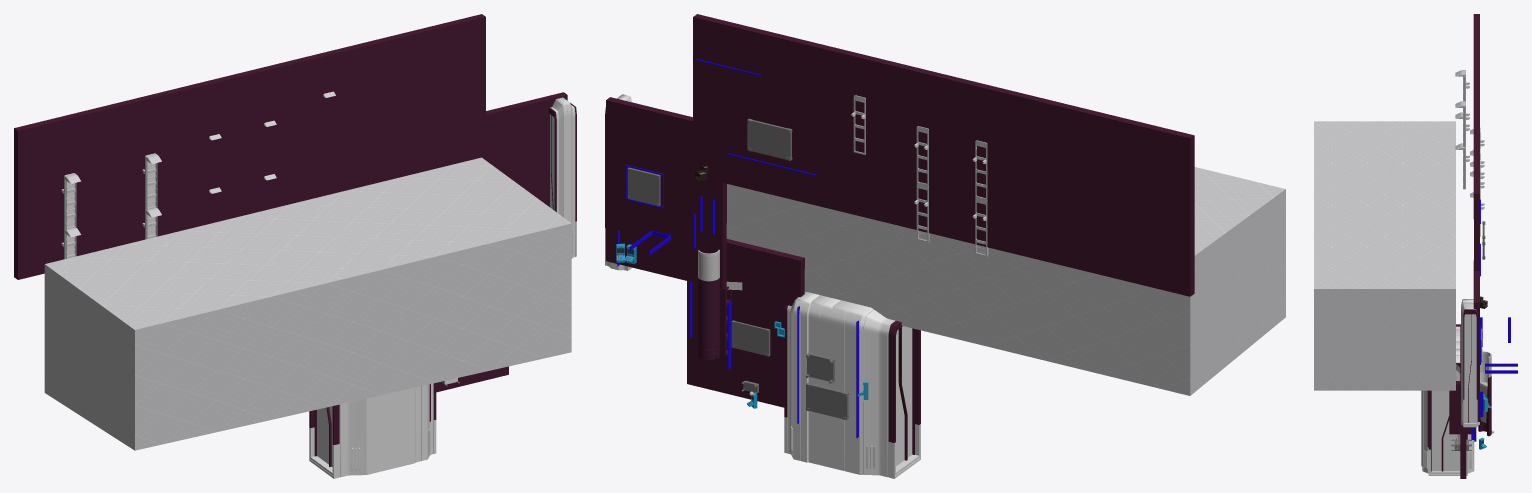
The model's file is lab Background.fbx.
3 renders of one model, left to right at view 1: azimuth 30°, elevation 25°; view 2: azimuth 150°, elevation 25°; view 3: azimuth 270°, elevation 25°, orthographic. The views are drawn at different scales.
Visible parts, largest first — view 1: Cube__25__001, Cube_001__2_, Cube_001__1_, KB3D_HTS_Door_A_Main_1__3_, KB3D_HTS_Door_A_Main_1__4_, KB3D_HTS_Door_A_Main_1__2_, KB3D_HTS_Door_A_Main_1, KB3D_HTS_BldgLG_A_Main_5, KB3D_HTS_BldgLG_A_Main_7, Cube_001; view 2: Cube_001__2_, Cube__25__001, Cube_001__1_, KB3D_HTS_Door_A_Main_1__3_, Cube_001, KB3D_HTS_Door_A_Main_1, KB3D_HTS_Door_A_Main_1__2_, KB3D_HTS_Chair_B_Main, KB3D_HTS_PathA_D_Main__11_, KB3D_HTS_PathA_D_Main, KB3D_HTS_PathA_D_Main__2_, KB3D_HTS_PathA_D_Main__5_ (+1 smaller); view 3: Cube__25__001, KB3D_HTS_Door_A_Main_1, KB3D_HTS_Door_A_Main_1__4_, Cube_001__2_, KB3D_HTS_Chair_B_Main, Cube_010_001, Cube_001__1_, Cube_001, KB3D_HTS_Door_A_Main_1__2_.
Part boxes in pixels (box(x1,y1,x2,y2)): Cube__25__001: box(44, 157, 571, 450); Cube_001__2_: box(14, 14, 485, 279); Cube_001__1_: box(458, 92, 567, 206); KB3D_HTS_Door_A_Main_1__3_: box(309, 392, 395, 478); KB3D_HTS_Door_A_Main_1__4_: box(548, 97, 576, 258); KB3D_HTS_Door_A_Main_1__2_: box(395, 384, 430, 467); KB3D_HTS_Door_A_Main_1: box(415, 383, 436, 462); KB3D_HTS_BldgLG_A_Main_5: box(142, 153, 161, 210); KB3D_HTS_BldgLG_A_Main_7: box(61, 173, 80, 229); Cube_001: box(436, 366, 508, 392); Cube_001__2_: box(693, 14, 1194, 296); Cube__25__001: box(726, 167, 1285, 395); Cube_001__1_: box(606, 97, 726, 289); KB3D_HTS_Door_A_Main_1__3_: box(830, 300, 920, 478); Cube_001: box(687, 239, 804, 407); KB3D_HTS_Door_A_Main_1: box(784, 291, 819, 462); KB3D_HTS_Door_A_Main_1__2_: box(808, 295, 840, 467); KB3D_HTS_Chair_B_Main: box(698, 249, 719, 360); KB3D_HTS_PathA_D_Main__11_: box(747, 118, 792, 160); KB3D_HTS_PathA_D_Main: box(806, 382, 849, 420); KB3D_HTS_PathA_D_Main__2_: box(731, 320, 770, 356); KB3D_HTS_PathA_D_Main__5_: box(627, 167, 660, 206); Cube__25__001: box(1314, 121, 1455, 390); KB3D_HTS_Door_A_Main_1: box(1422, 348, 1474, 475); KB3D_HTS_Door_A_Main_1__4_: box(1461, 299, 1479, 427); Cube_001__2_: box(1473, 14, 1479, 270); KB3D_HTS_Chair_B_Main: box(1478, 351, 1491, 436); Cube_010_001: box(1449, 381, 1475, 434); Cube_001__1_: box(1473, 260, 1479, 421); Cube_001: box(1460, 326, 1466, 478); KB3D_HTS_Door_A_Main_1__2_: box(1421, 341, 1460, 473).
Size of the model in its own units: 16138 by 11073 by 6548.
